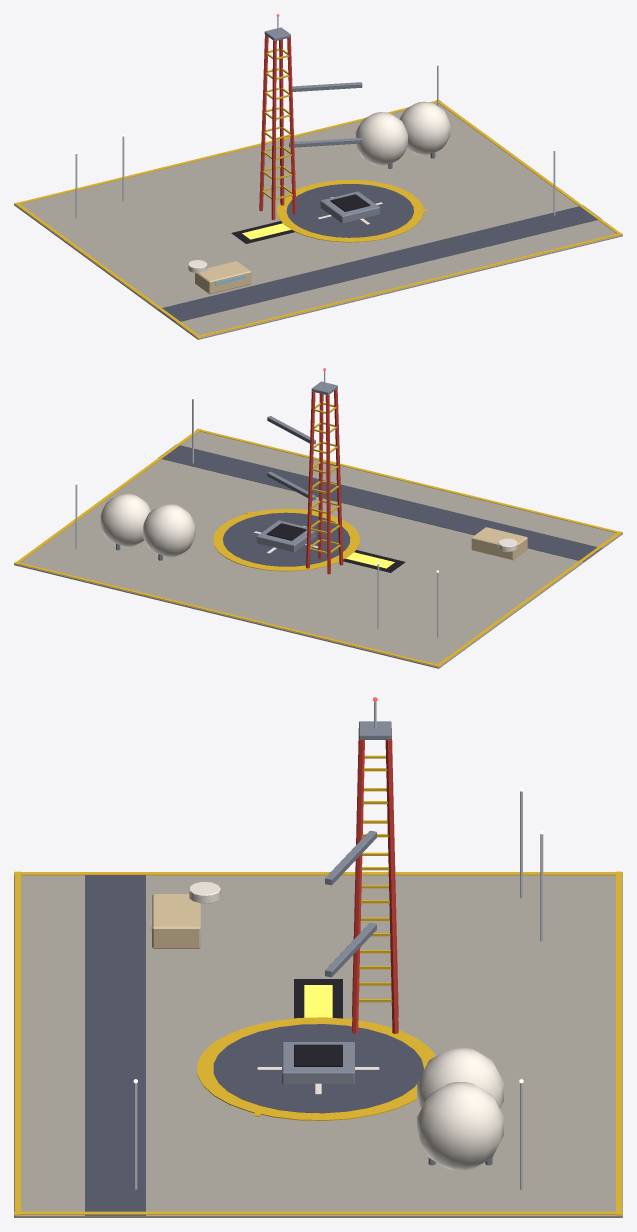
Rendered from launch_pad.glb.
3 views of the same model, one above another, from view 1: azimuth 30°, elevation 25°; view 2: azimuth 150°, elevation 25°; view 3: azimuth 270°, elevation 25° (orthographic). The views are drawn at different scales.
Visible parts, largest first — view 1: launch_pad; view 2: launch_pad; view 3: launch_pad.
Boxes of the visible parts, <box> form: launch_pad: <box>14,14,622,339</box>; launch_pad: <box>14,368,622,668</box>; launch_pad: <box>14,697,622,1217</box>.
Size of the model in its own units: 400 by 180 by 300.
1 material, 1 textured.
